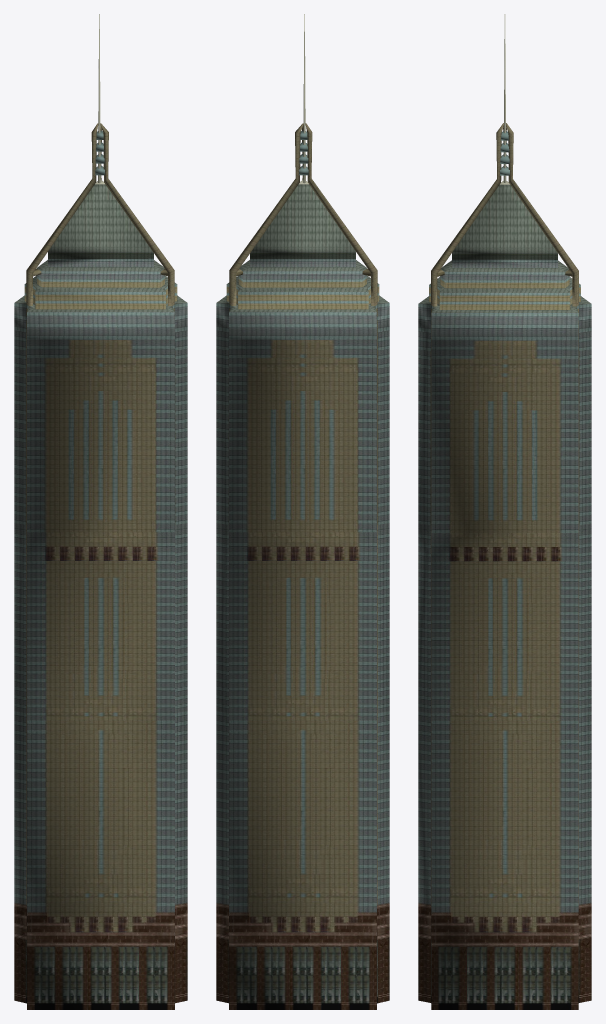
File: CentralPlaza_HighLOD.dae
The picture shows the model from 3 angles, left to right: view 1: azimuth 30°, elevation 25°; view 2: azimuth 150°, elevation 25°; view 3: azimuth 270°, elevation 25°; orthographic projection.
Visible parts, largest first — view 1: CentralPlaza; view 2: CentralPlaza; view 3: CentralPlaza.
Part boxes in pixels (x1,y1,x2,y2): CentralPlaza: (14,14,187,1009); CentralPlaza: (216,14,389,1009); CentralPlaza: (418,14,591,1009).
Bounding box in the file's own units: 52.33 × 60.42 × 374.
1 material, 1 textured.
